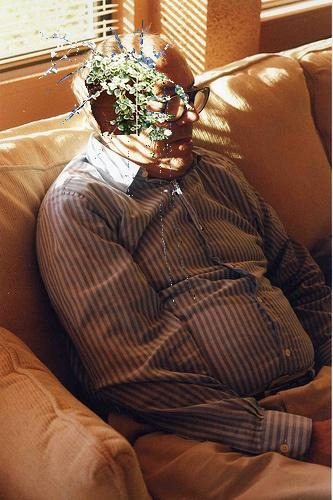tampered: (40, 21, 195, 324)
